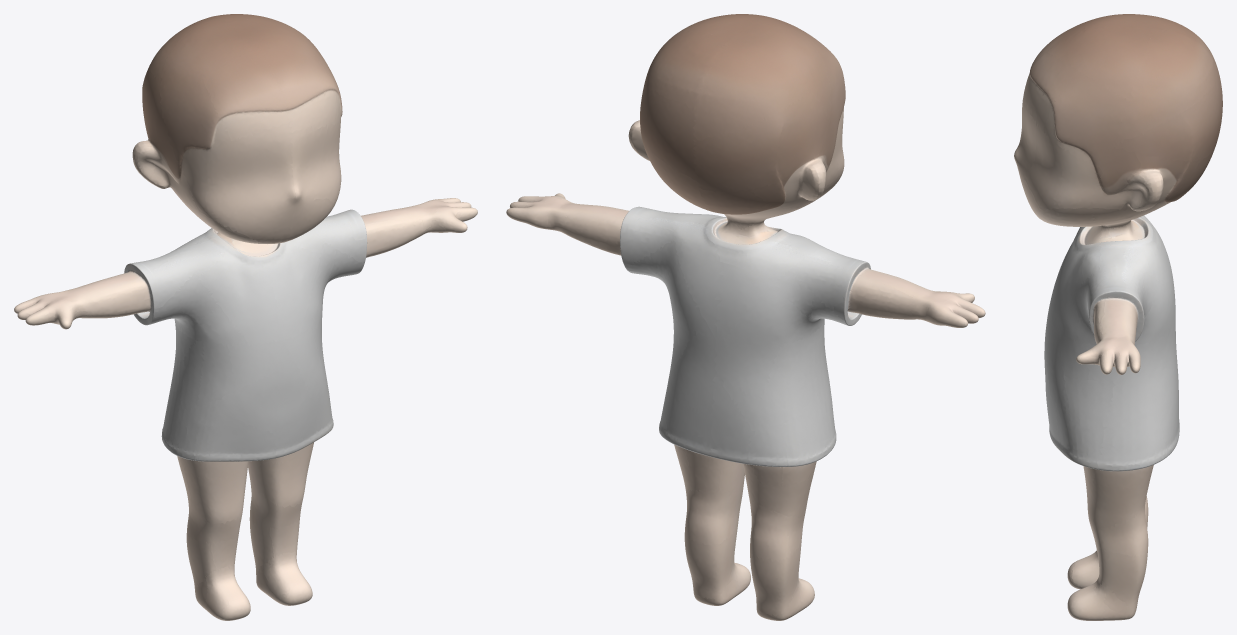
The model's file is baked_nhair_buzz.glb.
The picture shows the model from 3 angles, left to right: view 1: azimuth 30°, elevation 25°; view 2: azimuth 150°, elevation 25°; view 3: azimuth 270°, elevation 25°; orthographic projection. The views are drawn at different scales.
Bounding box in the file's own units: 1.6 × 1.9 × 0.629.
Materials: 1 (1 with a texture image).
